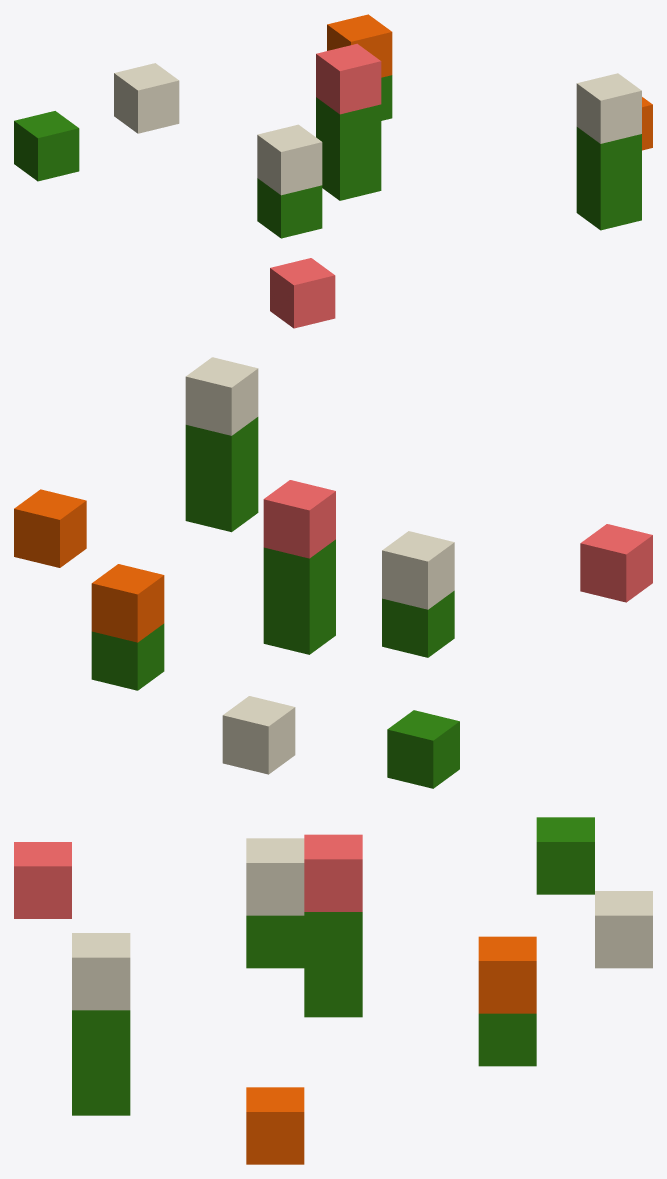
Rendered from Foliage_Flowers_01.glb.
3 renders of one model, top to bottom at view 1: azimuth 30°, elevation 25°; view 2: azimuth 150°, elevation 25°; view 3: azimuth 270°, elevation 25°, orthographic. The views are drawn at different scales.
Visible parts, largest first — view 1: Foliage_Flowers_01; view 2: Foliage_Flowers_01; view 3: Foliage_Flowers_01.
Part boxes in pixels (<box>): Foliage_Flowers_01: <box>14,14,652,328</box>; Foliage_Flowers_01: <box>14,357,652,788</box>; Foliage_Flowers_01: <box>14,817,652,1164</box>.
Bounding box in the file's own units: 1.2 × 0.3 × 1.1.
1 material, 1 textured.
